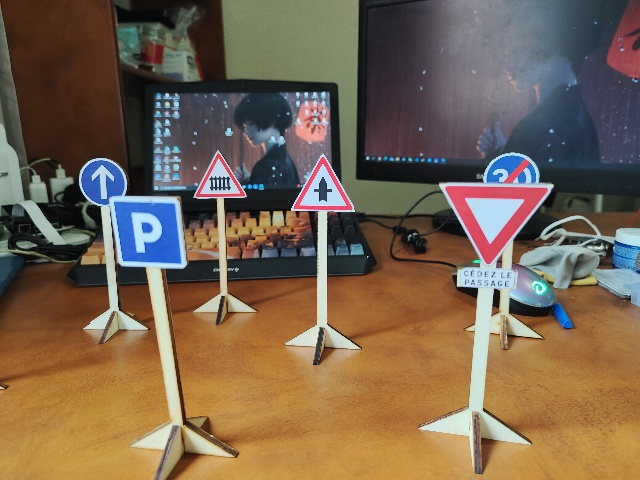P: (110, 195, 189, 269)
ban: (482, 149, 540, 185)
first: (291, 155, 357, 212)
second: (441, 182, 550, 290)
straight: (79, 159, 131, 205)
train: (192, 151, 247, 196)
